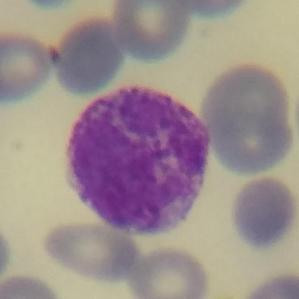Basophil: (64, 76, 214, 236)
RBC: (47, 12, 128, 97), (202, 62, 289, 140), (39, 218, 139, 284), (206, 106, 299, 174), (228, 173, 299, 251), (109, 0, 194, 64), (126, 242, 212, 299), (0, 26, 57, 108), (165, 0, 255, 20), (239, 269, 299, 299), (0, 271, 64, 299), (0, 217, 14, 292), (14, 0, 92, 10)
